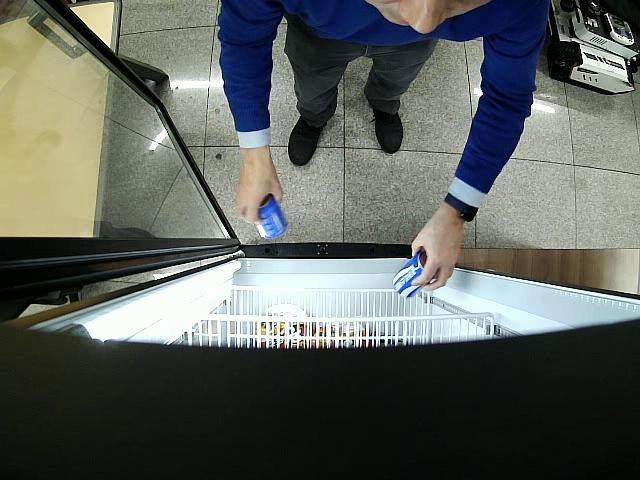13_pocariSweat: (392, 250, 427, 299), (255, 195, 288, 240)
